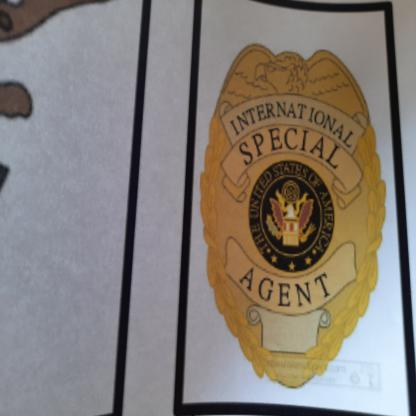G-man: (198, 36, 390, 399)
